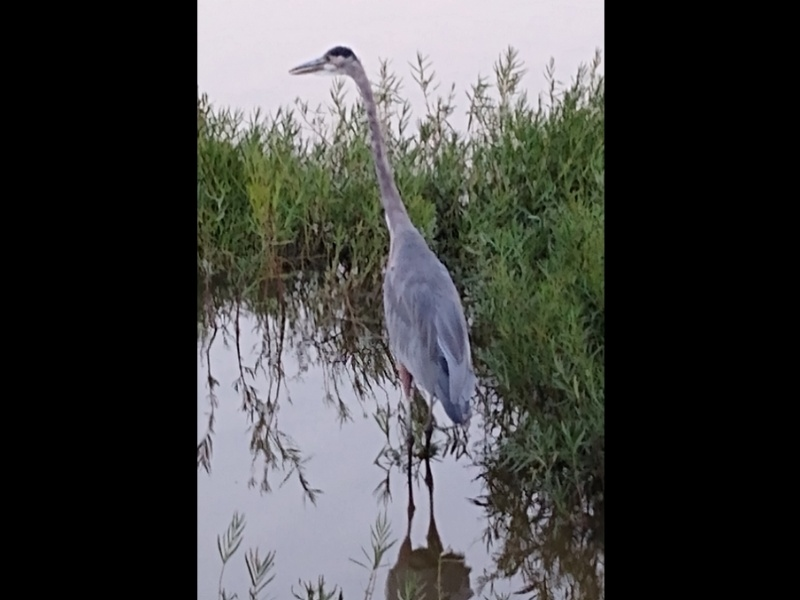heron: (288, 43, 490, 476)
